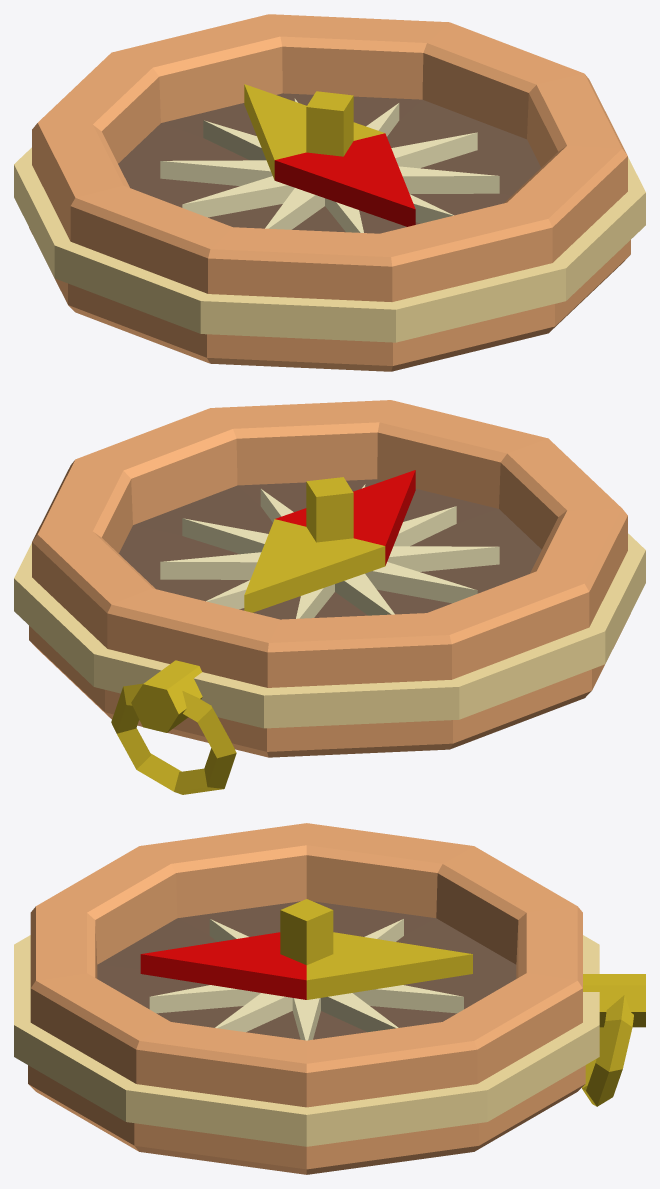
3 renders of one model, top to bottom at view 1: azimuth 30°, elevation 25°; view 2: azimuth 150°, elevation 25°; view 3: azimuth 270°, elevation 25°, orthographic. The views are drawn at different scales.
Visible parts, largest first — view 1: 圆环.002, 立方体.001, 立方体; view 2: 圆环.002, 立方体.001, 环体, 柱体.003, 立方体; view 3: 圆环.002, 立方体.001, 环体, 立方体, 柱体.003.
Part boxes in pixels (box(x1,y1,x2,y2)): 圆环.002: box(14, 14, 645, 371); 立方体.001: box(244, 84, 415, 226); 立方体: box(306, 91, 353, 156); 圆环.002: box(14, 400, 645, 757); 立方体.001: box(244, 470, 415, 612); 环体: box(111, 683, 236, 794); 柱体.003: box(131, 660, 202, 732); 立方体: box(306, 477, 353, 542); 圆环.002: box(14, 823, 599, 1174); 立方体.001: box(140, 932, 472, 999); 环体: box(582, 995, 633, 1106); 立方体: box(280, 899, 333, 965); 柱体.003: box(583, 974, 645, 1027).
Size of the model in its own units: 1387 by 482 by 1424.
